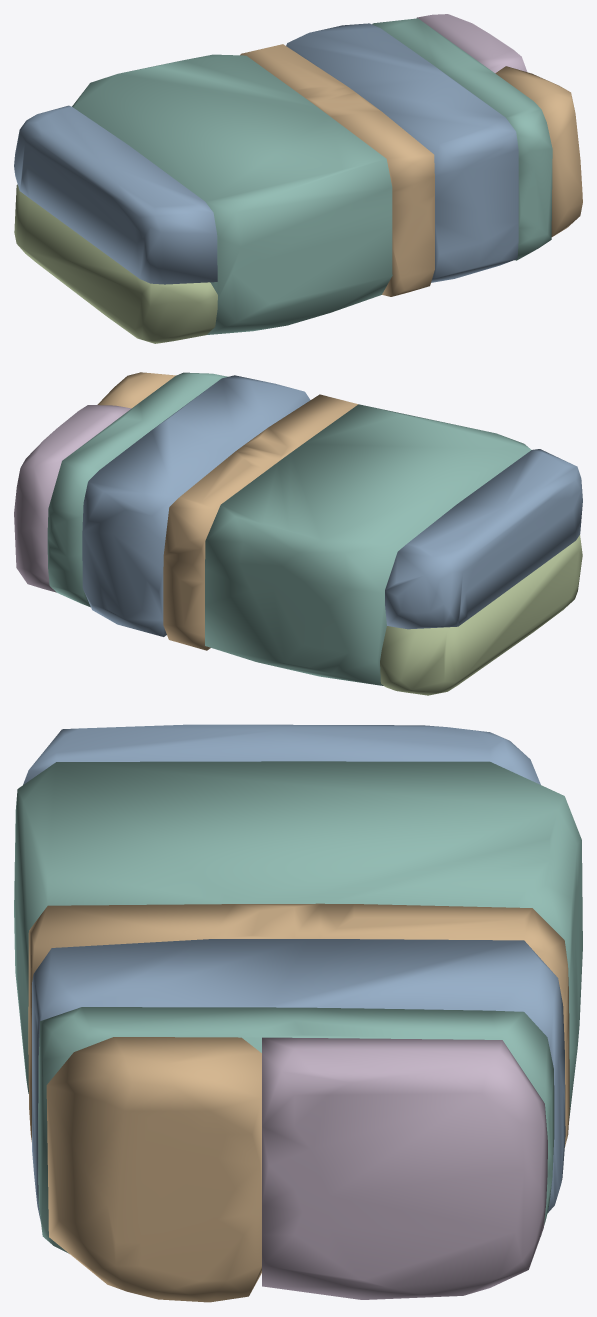
The picture shows the model from 3 angles, top to bottom: view 1: azimuth 30°, elevation 25°; view 2: azimuth 150°, elevation 25°; view 3: azimuth 270°, elevation 25°; orthographic projection. The views are drawn at different scales.
Bounding box in the file's own units: 1.75 × 0.5347 × 1.16.
